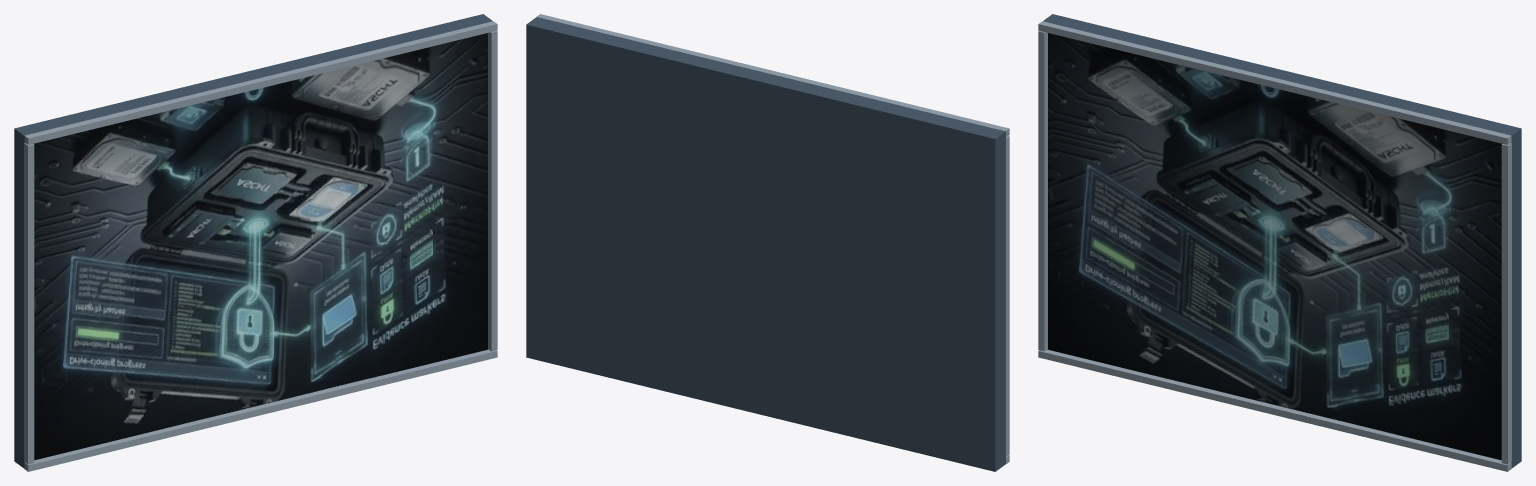
Rendered from ASCHT_digital_forensics_3D.glb.
3 views of the same model, side by side, from view 1: azimuth 30°, elevation 25°; view 2: azimuth 150°, elevation 25°; view 3: azimuth 330°, elevation 25° (orthographic).
Parts seen in each view (by area): view 1: ASCHT digital forensics artwork texture, Solid metallic backing, Raised metallic frame 1, Raised metallic frame 2, Raised metallic frame 3, Raised metallic frame 4; view 2: Solid metallic backing, Raised metallic frame 1, Raised metallic frame 3; view 3: ASCHT digital forensics artwork texture, Solid metallic backing, Raised metallic frame 1, Raised metallic frame 2, Raised metallic frame 4, Raised metallic frame 3.
Part boxes in pixels (x1=…): ASCHT digital forensics artwork texture: x1=33, y1=33, x2=487, y2=460; Solid metallic backing: x1=14, y1=14, x2=492, y2=468; Raised metallic frame 1: x1=24, y1=21, x2=497, y2=144; Raised metallic frame 2: x1=24, y1=349, x2=497, y2=471; Raised metallic frame 3: x1=24, y1=143, x2=34, y2=464; Raised metallic frame 4: x1=488, y1=31, x2=497, y2=351; Solid metallic backing: x1=526, y1=17, x2=1005, y2=471; Raised metallic frame 1: x1=536, y1=14, x2=1009, y2=137; Raised metallic frame 3: x1=1005, y1=135, x2=1009, y2=456; ASCHT digital forensics artwork texture: x1=1048, y1=33, x2=1502, y2=460; Solid metallic backing: x1=1043, y1=14, x2=1521, y2=468; Raised metallic frame 1: x1=1038, y1=21, x2=1511, y2=144; Raised metallic frame 2: x1=1038, y1=349, x2=1511, y2=471; Raised metallic frame 4: x1=1501, y1=143, x2=1511, y2=464; Raised metallic frame 3: x1=1038, y1=31, x2=1047, y2=351.
Size of the model in its own units: 4.12 by 2.8 by 0.215.
Materials: 1 (1 with a texture image).
